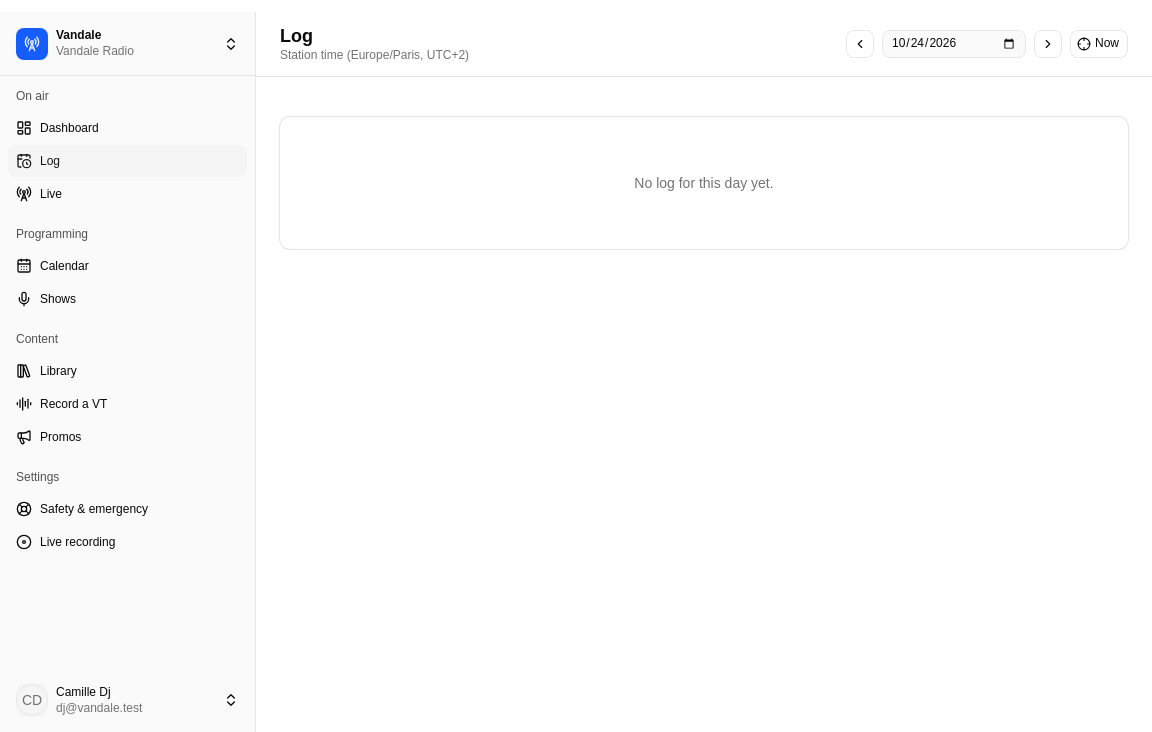
Test: log timeline › moves between days over the right UTC range, DST included
The image size is (1152, 732).
Check: the heading "Log" is shown, box [280, 25, 313, 47]
Click the button named "Next day" at [1048, 44], box [1034, 30, 1062, 58]
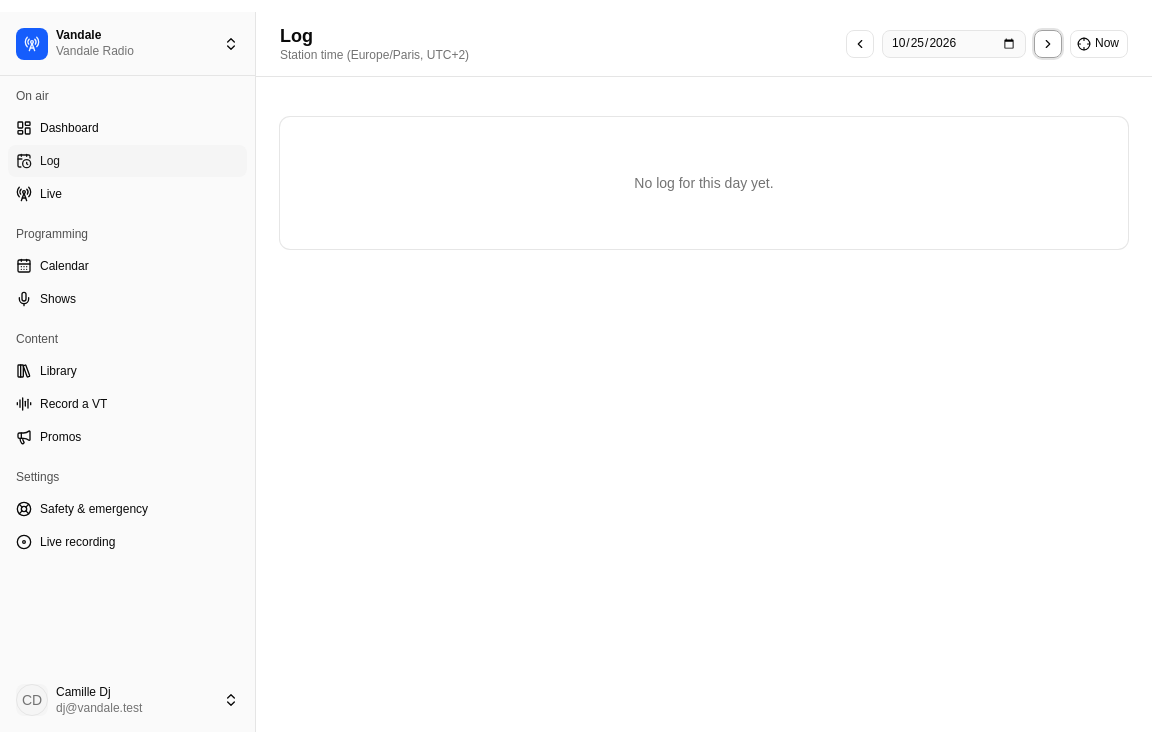
Check: the date field named "Date" holds "2026-10-25", box [882, 30, 1026, 58]
